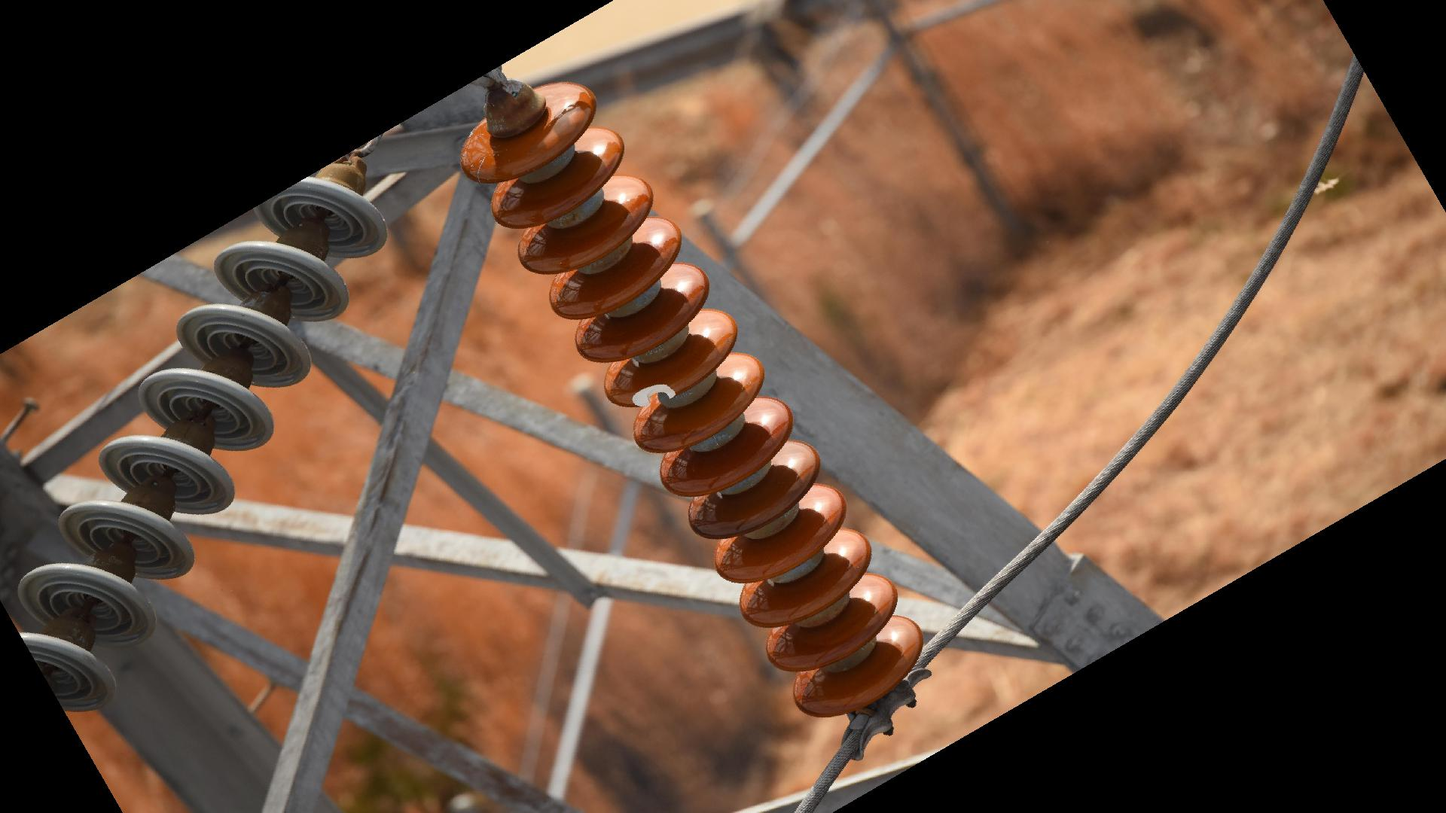insulator: (454, 75, 927, 724), (1, 169, 393, 723)
insulator_breakage: (626, 379, 682, 413)
